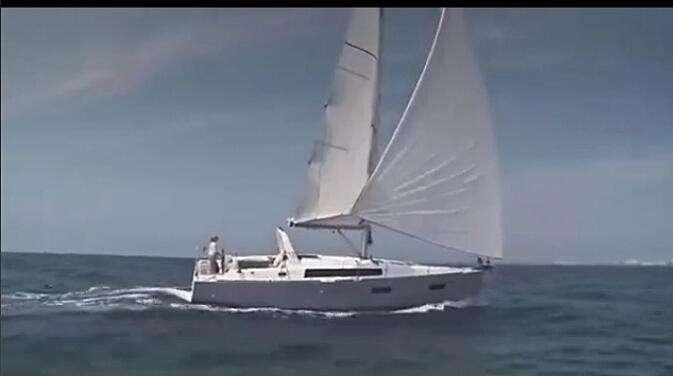fanchuan: (182, 8, 519, 310)
